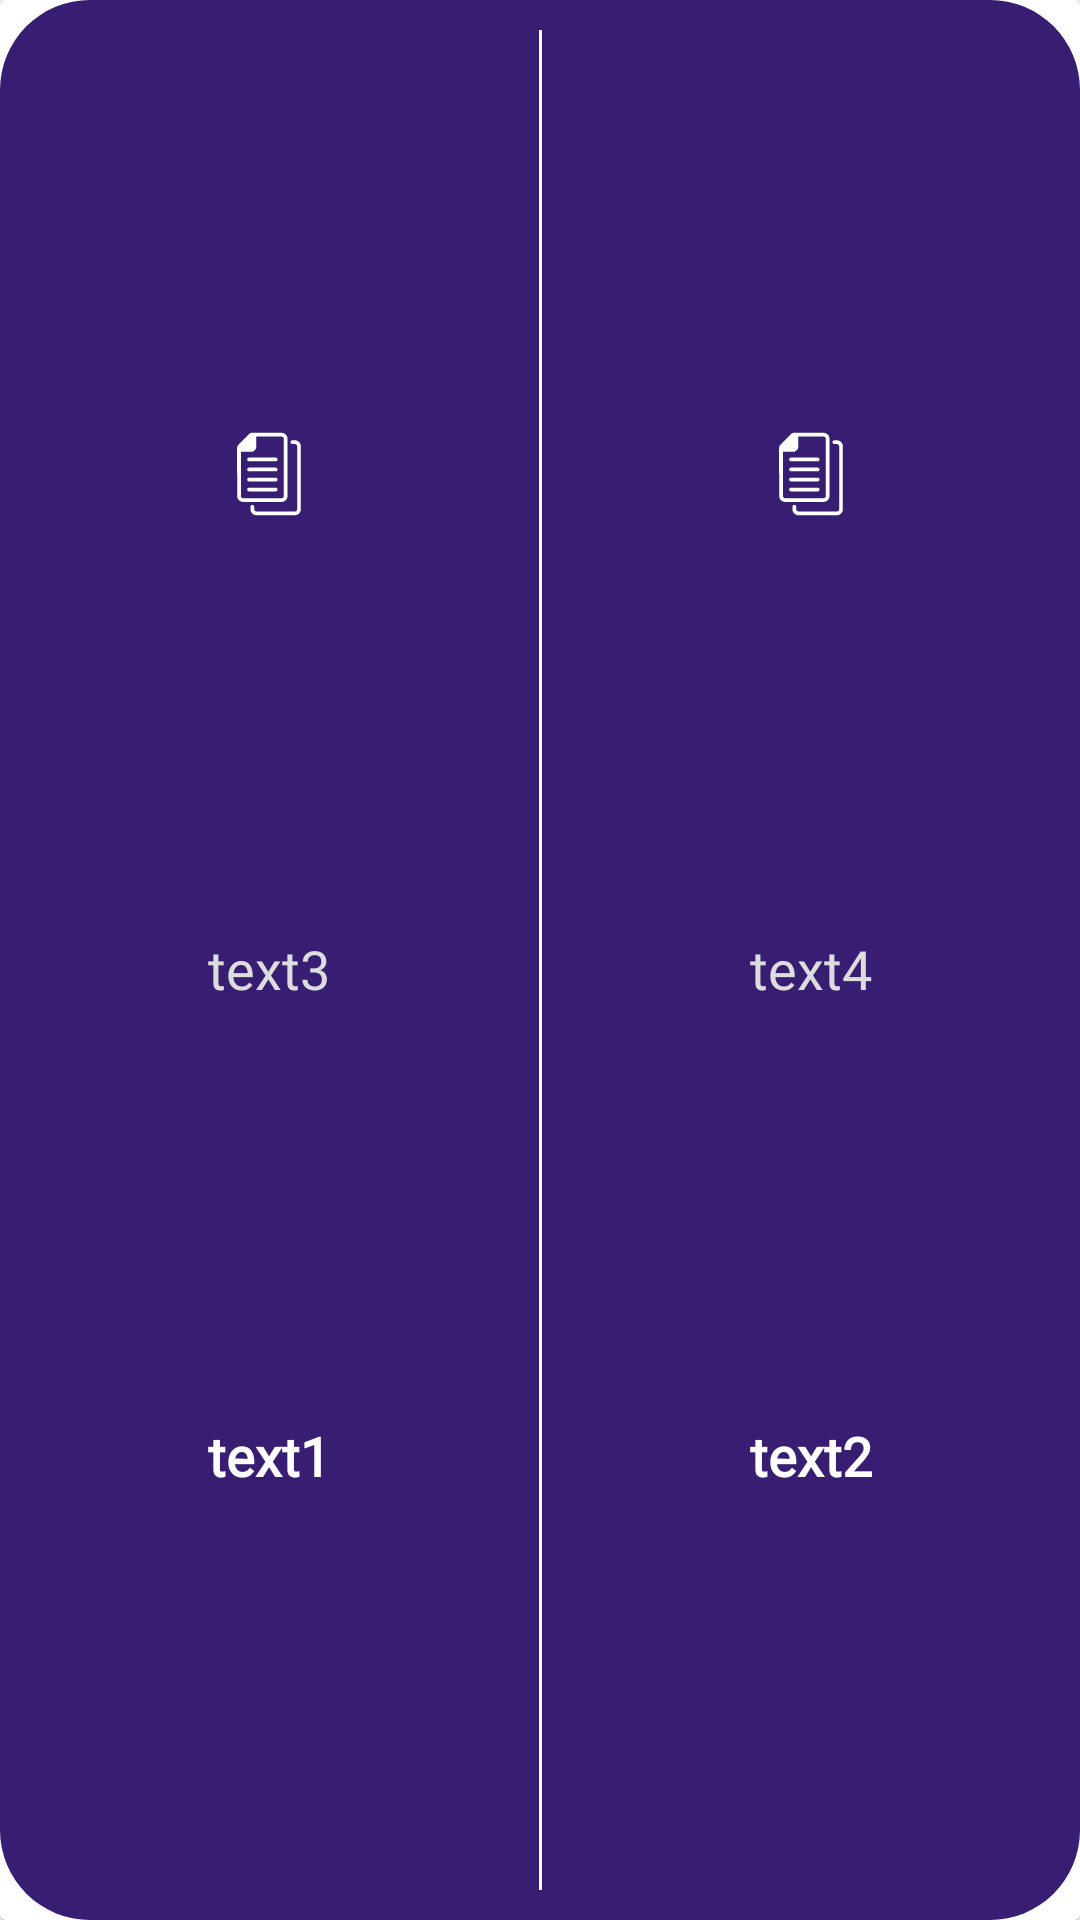

Locate icon controls on the screen. Image size 1080 × 1920, boxes as [x1, y1, x2, y2].
documents: [237, 432, 301, 516], [779, 432, 843, 516]
